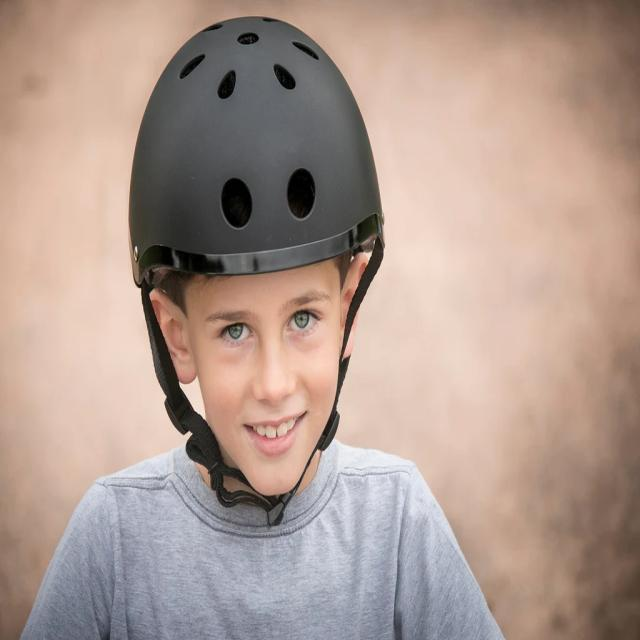helmet: (130, 12, 388, 516)
